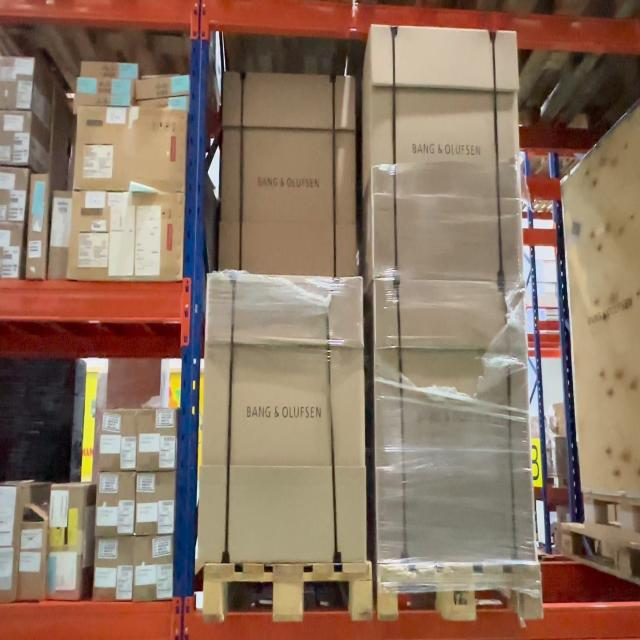box: (196, 271, 366, 564), (376, 283, 536, 562), (370, 25, 524, 284), (219, 73, 356, 277)
